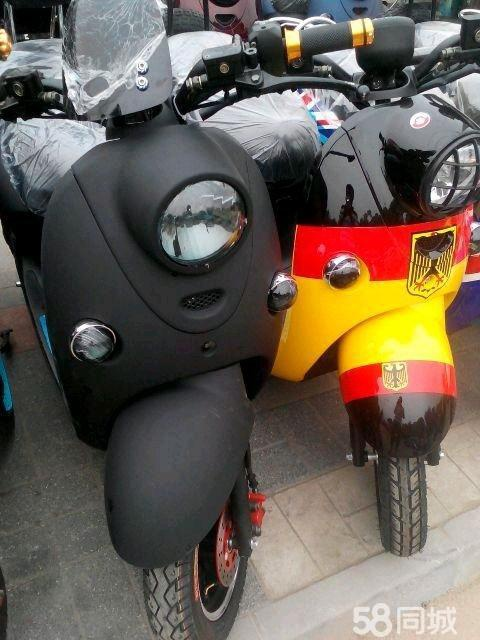non-vehicle: (0, 8, 288, 640), (268, 8, 479, 556)
